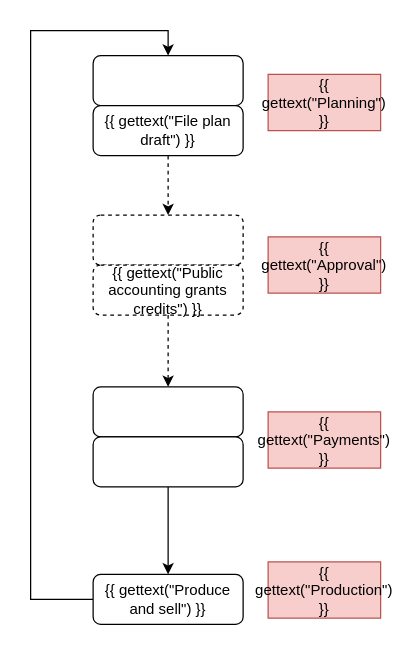
This 415x646 diagram has some shape labels left out. Each missing label, with the centre of its shape:
{{ gettext("Create plan draft") }}: point 167,80
{{ gettext("Pay means of production") }}: point 167,411
{{ gettext("Public accounting approves") }}: point 167,239
{{ gettext("Send work certificates to workers") }}: point 167,461
